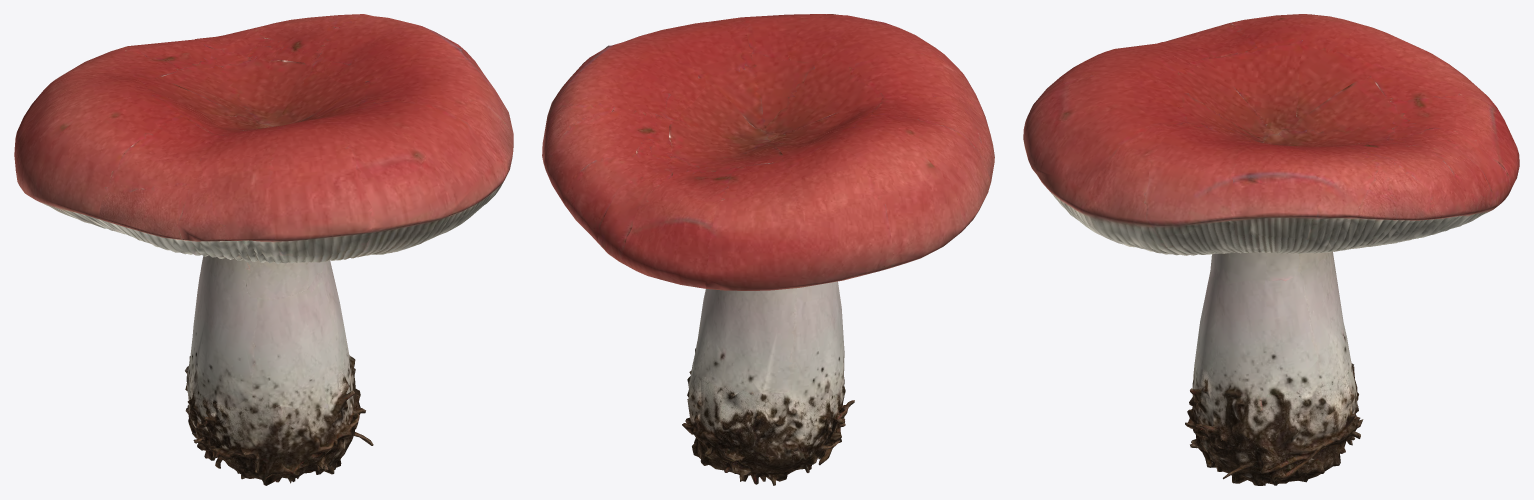
Rendered from russula.glb.
3 views of the same model, side by side, from view 1: azimuth 30°, elevation 25°; view 2: azimuth 150°, elevation 25°; view 3: azimuth 270°, elevation 25° (orthographic). The views are drawn at different scales.
Size of the model in its own units: 1.8 by 1.63 by 1.9.
Materials: 1 (1 with a texture image).
